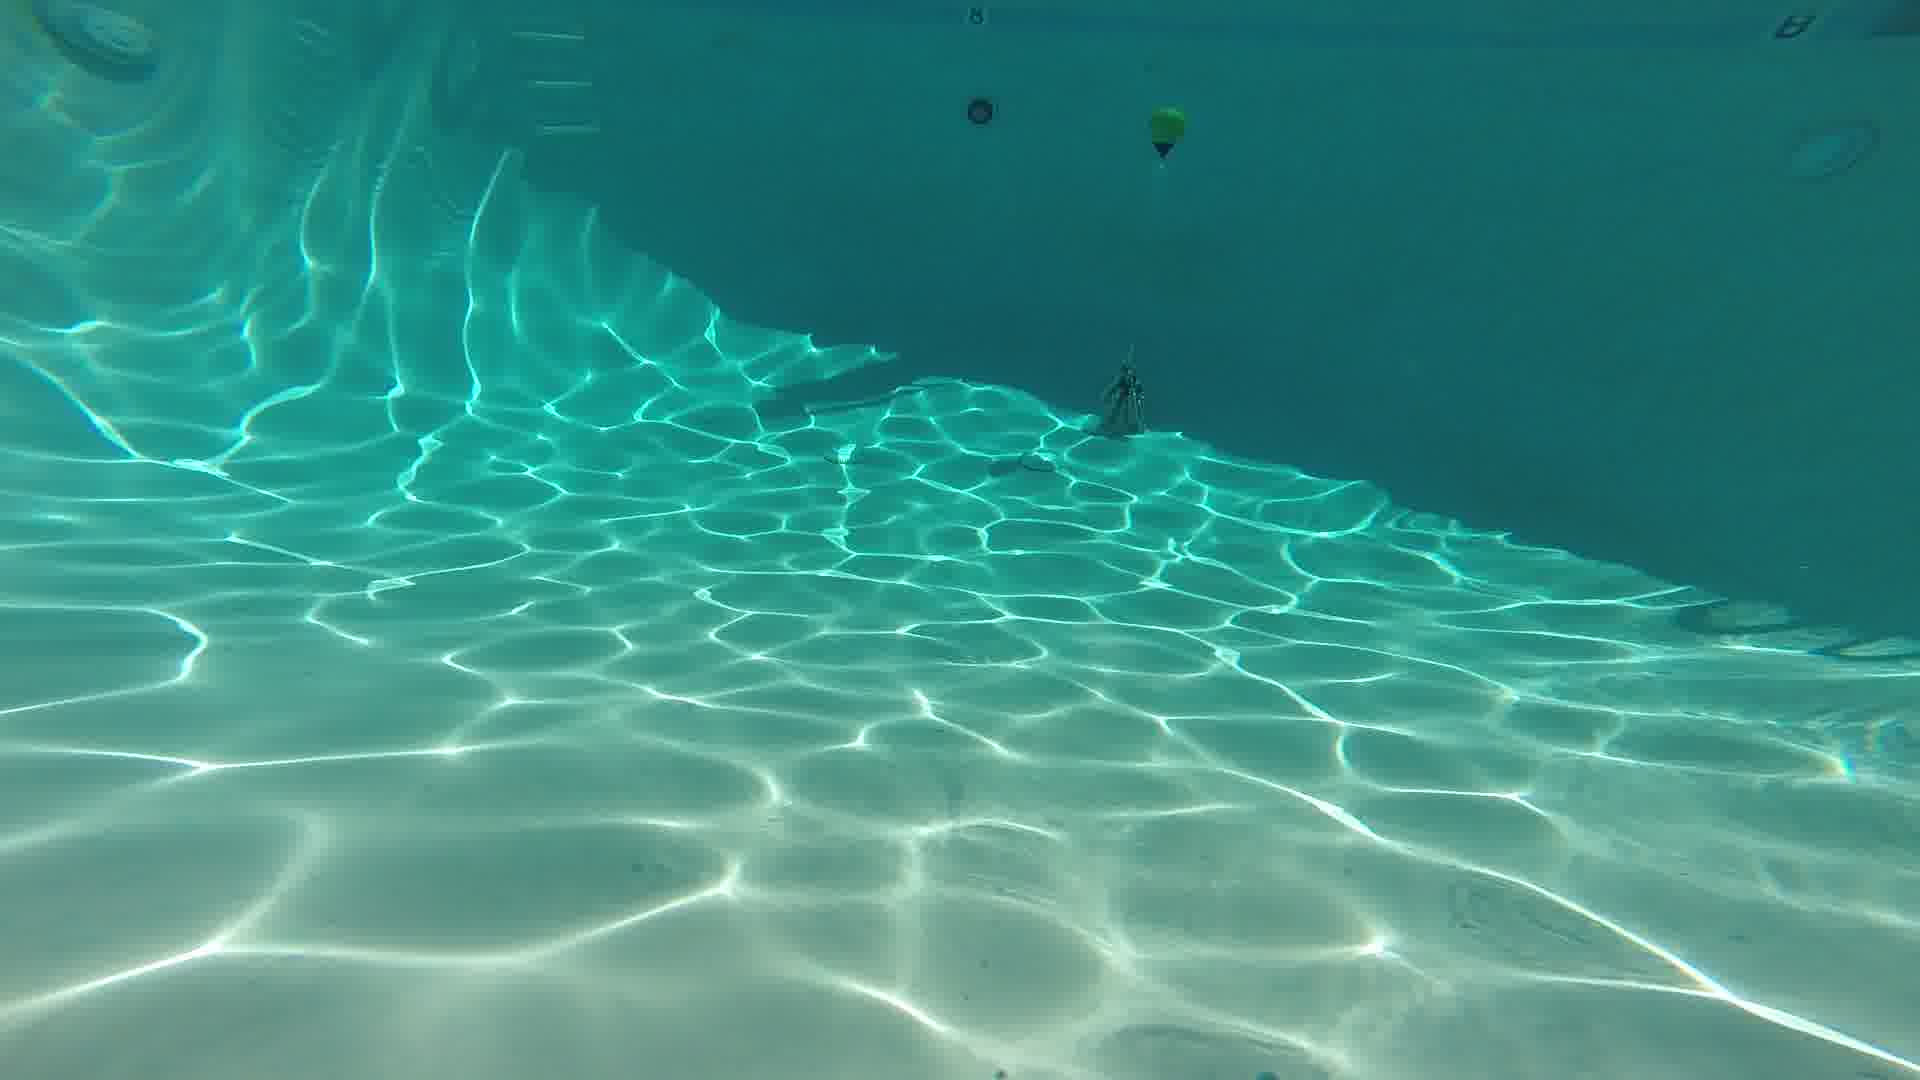yellow buoy: (1142, 102, 1193, 171)
